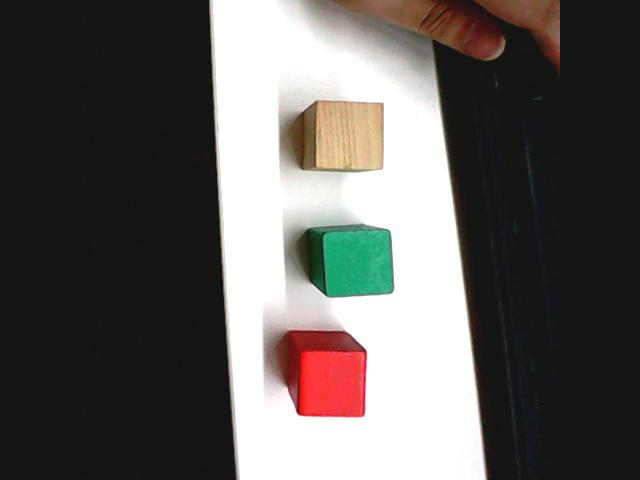green_box: (304, 221, 398, 300)
raw_box: (298, 97, 388, 174)
red_box: (281, 327, 372, 421)
